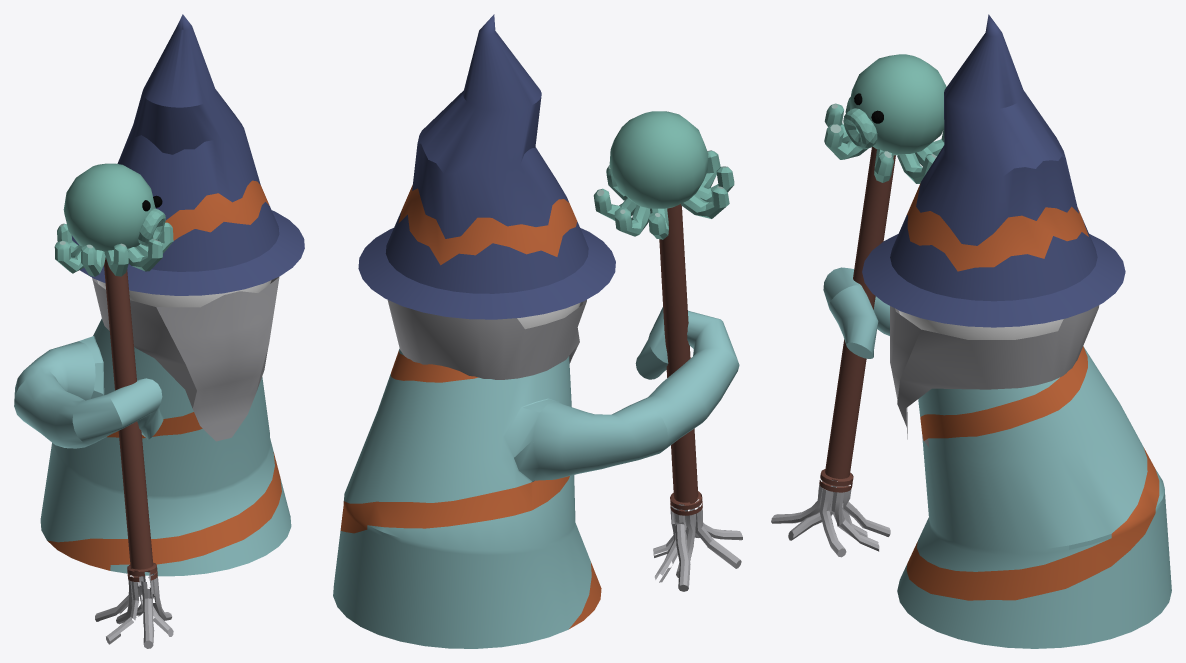
Rendered from Janitor_Wizard.fbx.
3 renders of one model, left to right at view 1: azimuth 30°, elevation 25°; view 2: azimuth 150°, elevation 25°; view 3: azimuth 270°, elevation 25°, orthographic. The views are drawn at different scales.
Visible parts, largest first — view 1: Cylinder; view 2: Cylinder; view 3: Cylinder.
Part boxes in pixels (x1,y1,x2,y2): Cylinder: (14,14,304,648); Cylinder: (333,14,742,648); Cylinder: (771,14,1171,648).
Bounding box in the file's own units: 100 × 182 × 112.
